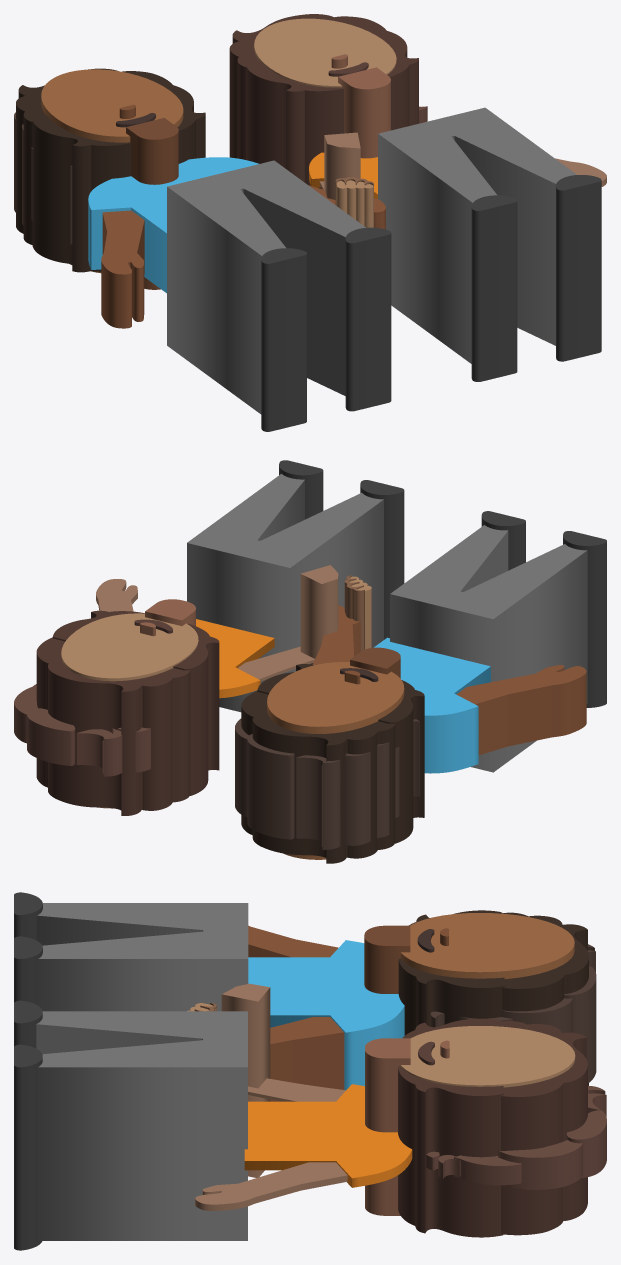
Rendered from emoji_u1f9d1_1f3fe_200d_1f91d_200d_1f9d1_1f3fd.glb.
3 views of the same model, one above another, from view 1: azimuth 30°, elevation 25°; view 2: azimuth 150°, elevation 25°; view 3: azimuth 270°, elevation 25° (orthographic). The views are drawn at different scales.
Parts seen in each view (by area): view 1: emoji_u1f9d1_1f3fe_200d_1f91d_200d_1f9d1_1f3fd; view 2: emoji_u1f9d1_1f3fe_200d_1f91d_200d_1f9d1_1f3fd; view 3: emoji_u1f9d1_1f3fe_200d_1f91d_200d_1f9d1_1f3fd.
Boxes of the visible parts, x1,y1,x2,y2 form: emoji_u1f9d1_1f3fe_200d_1f91d_200d_1f9d1_1f3fd: (14, 14, 606, 431); emoji_u1f9d1_1f3fe_200d_1f91d_200d_1f9d1_1f3fd: (14, 460, 606, 863); emoji_u1f9d1_1f3fe_200d_1f91d_200d_1f9d1_1f3fd: (14, 892, 606, 1250).
Bounding box in the file's own units: 0.0346 × 0.0114 × 0.0335.
